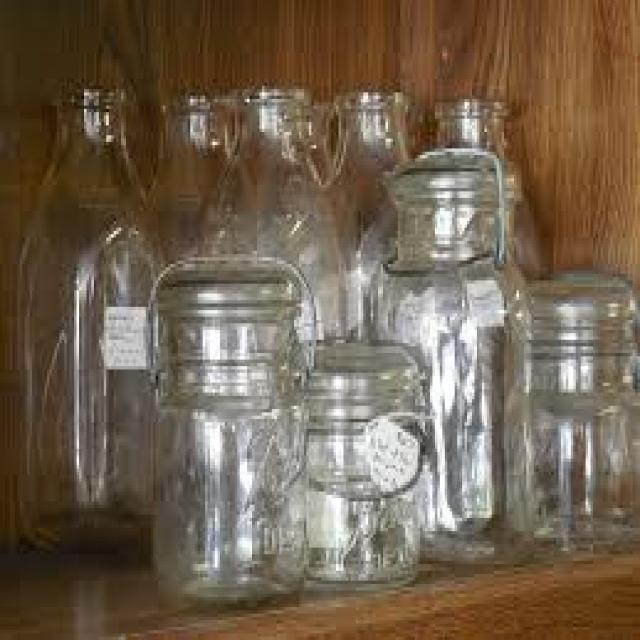Anorganik: (12, 79, 163, 551), (371, 148, 534, 554), (148, 281, 302, 597), (507, 270, 638, 558), (200, 89, 346, 346), (294, 340, 425, 584), (430, 92, 536, 280), (146, 92, 232, 258), (326, 89, 413, 244)
